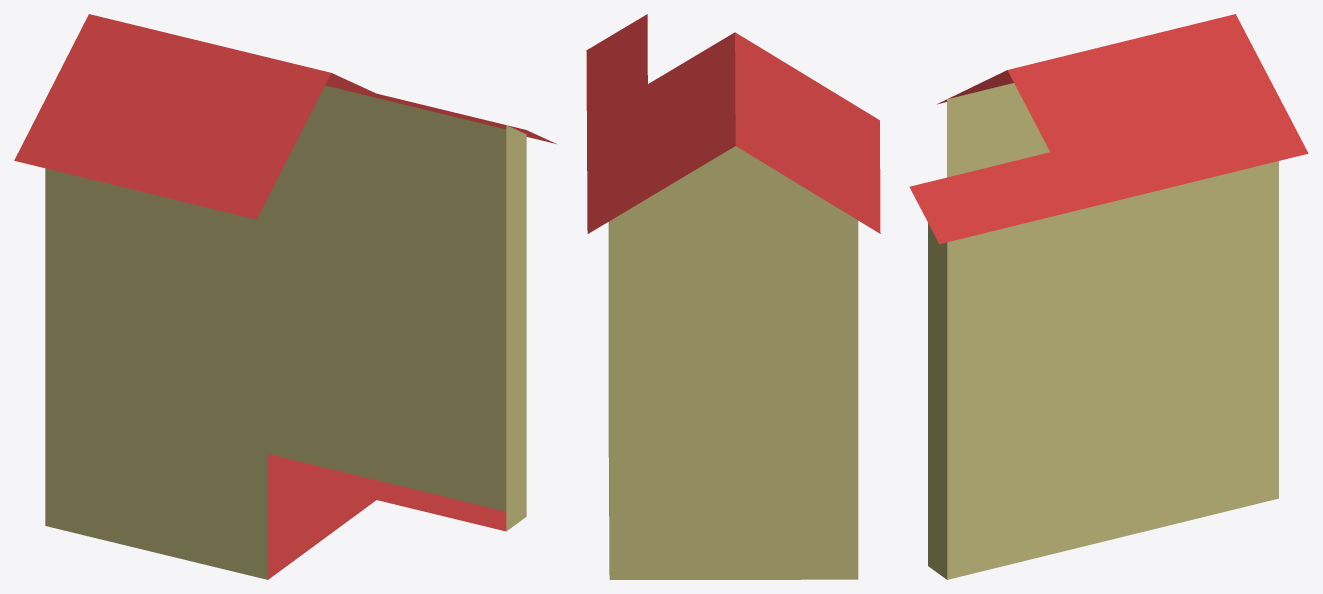
3 renders of one model, left to right at view 1: azimuth 30°, elevation 25°; view 2: azimuth 150°, elevation 25°; view 3: azimuth 270°, elevation 25°, orthographic. The views are drawn at different scales.
Bounding box in the file's own units: 10.7 × 9.23 × 11.09.
